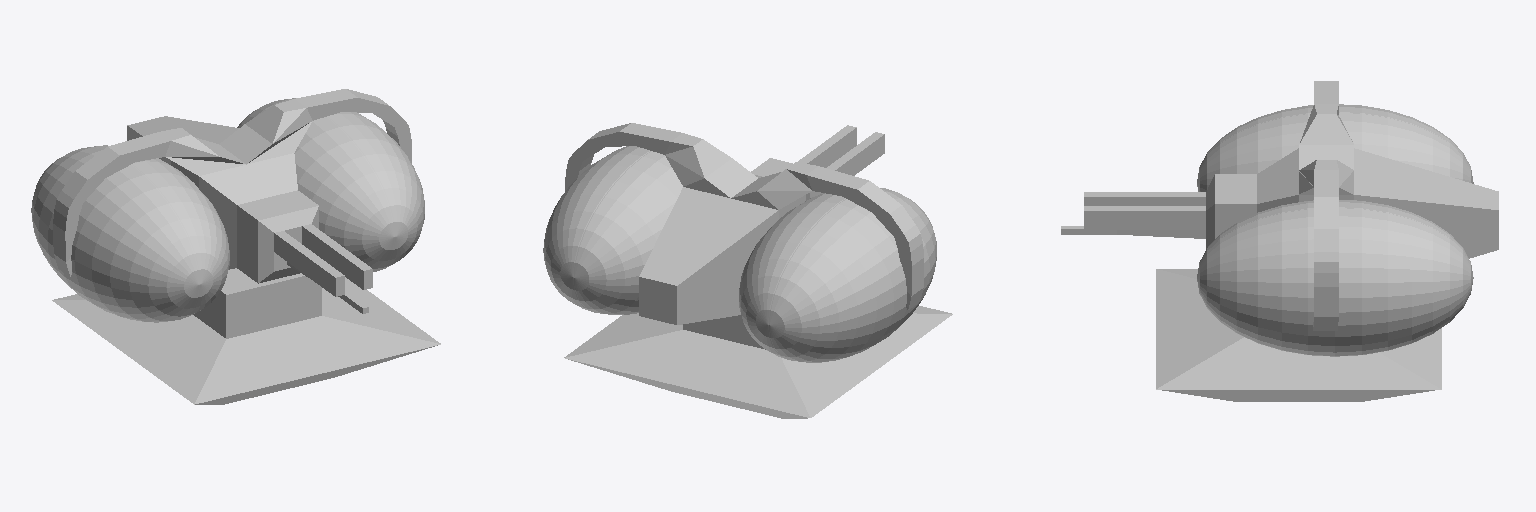
The model's file is MolotovTopBase.obj.
3 views of the same model, side by side, from view 1: azimuth 30°, elevation 25°; view 2: azimuth 150°, elevation 25°; view 3: azimuth 270°, elevation 25° (orthographic).
Visible parts, largest first — view 1: Cube_Cube.010; view 2: Cube_Cube.010; view 3: Cube_Cube.010.
Part boxes in pixels (x1,y1,x2,y2): Cube_Cube.010: (31,89,440,404); Cube_Cube.010: (543,123,952,418); Cube_Cube.010: (1061,81,1498,401).
Size of the model in its own units: 2.81 by 1.84 by 3.07.